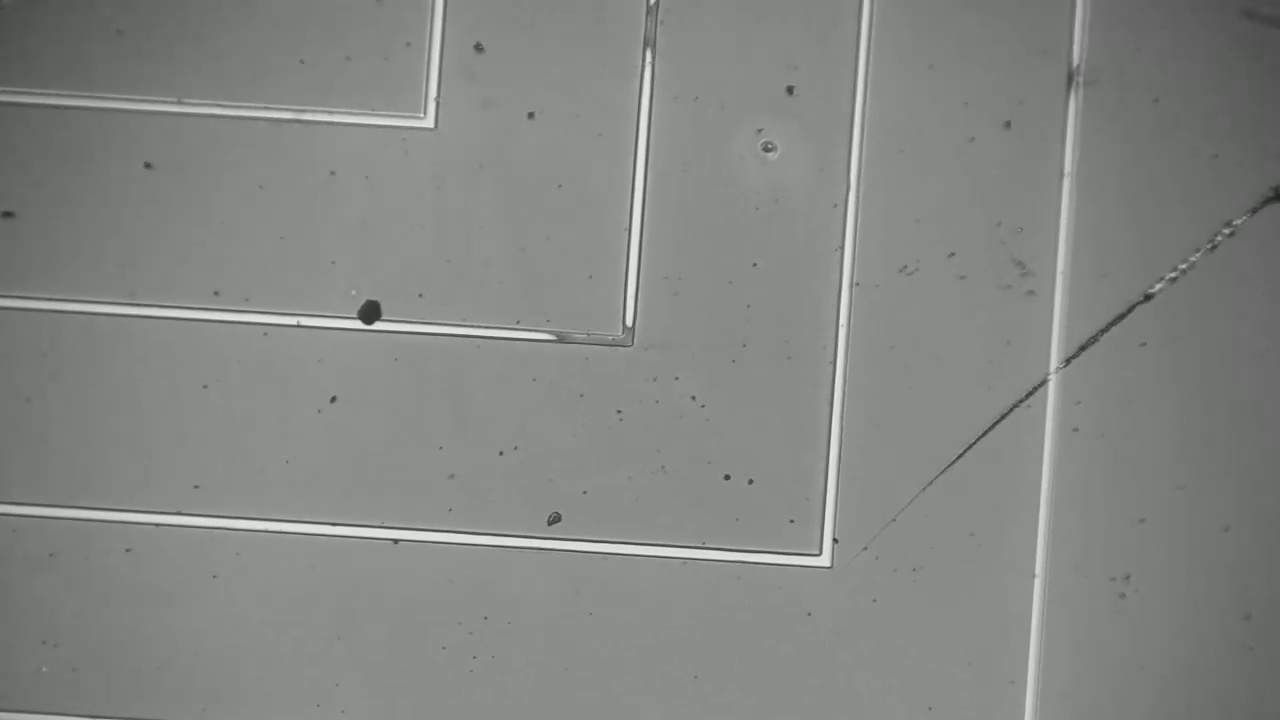gray_line: (536, 321, 647, 354), (628, 1, 670, 64), (1058, 53, 1093, 110), (610, 309, 645, 357)
scratch: (873, 197, 1271, 539)
stains_enbedded: (347, 293, 387, 345)
